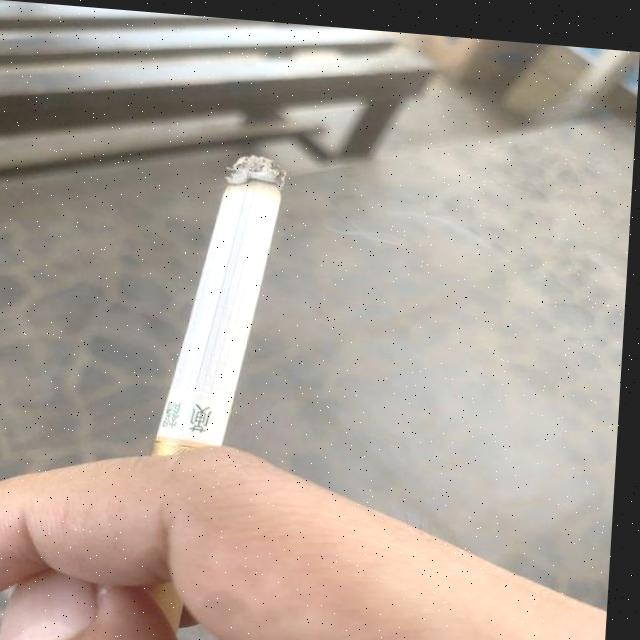cigarette: (154, 149, 291, 463)
